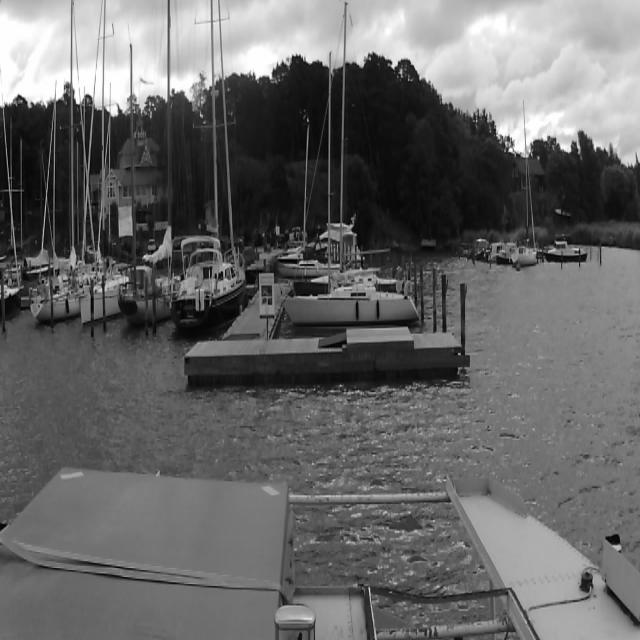ship: (279, 0, 422, 329), (171, 0, 248, 339), (117, 0, 171, 330), (29, 0, 79, 330), (78, 0, 116, 334), (511, 98, 537, 266), (543, 241, 589, 263)
